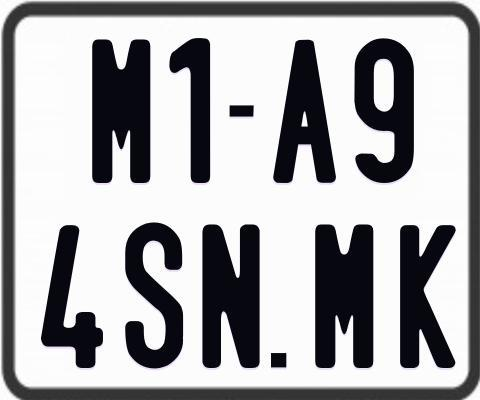1: (168, 36, 215, 182)
4: (41, 224, 104, 369)
9: (351, 36, 415, 184)
A: (273, 37, 337, 183)
K: (399, 222, 457, 367)
M: (90, 38, 151, 183), (315, 223, 373, 367)
N: (202, 222, 264, 369)
S: (124, 220, 184, 366)
